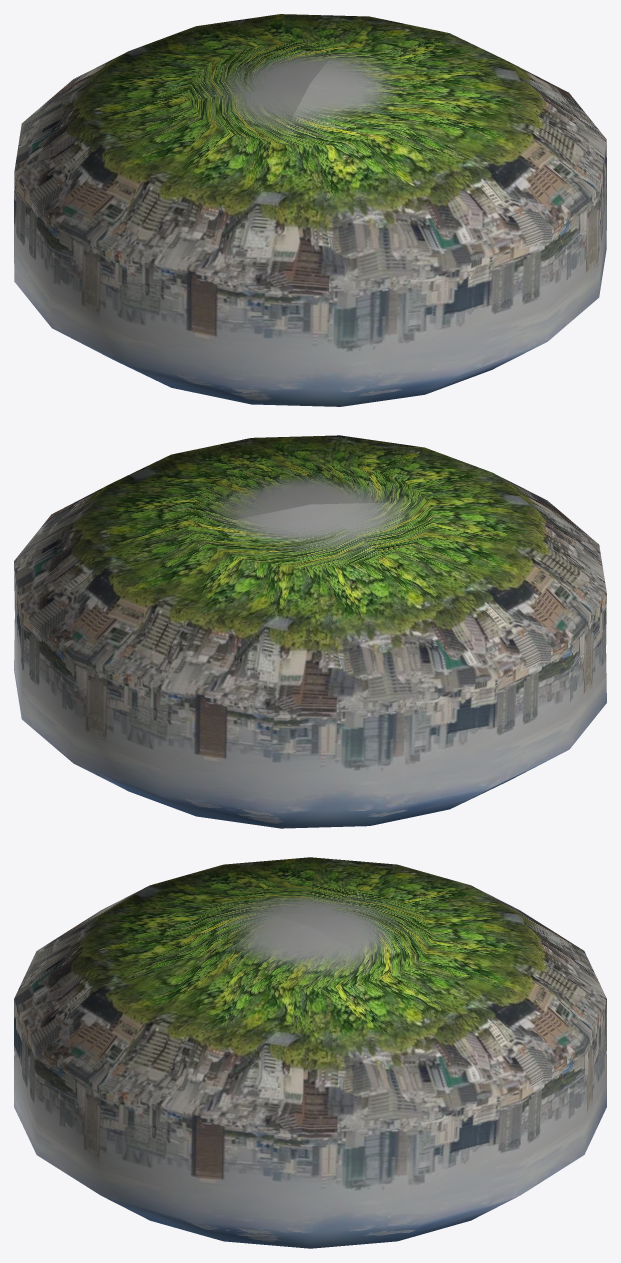
Rendered from Trailer.glb.
3 renders of one model, top to bottom at view 1: azimuth 30°, elevation 25°; view 2: azimuth 150°, elevation 25°; view 3: azimuth 270°, elevation 25°, orthographic.
Visible parts, largest first — view 1: Trailer; view 2: Trailer; view 3: Trailer.
Part boxes in pixels (x1,y1,x2,y2): Trailer: (14,14,606,406); Trailer: (14,435,606,828); Trailer: (14,857,606,1248).
Bounding box in the file's own units: 139 × 65.81 × 139.
Materials: 17 (16 with a texture image).
